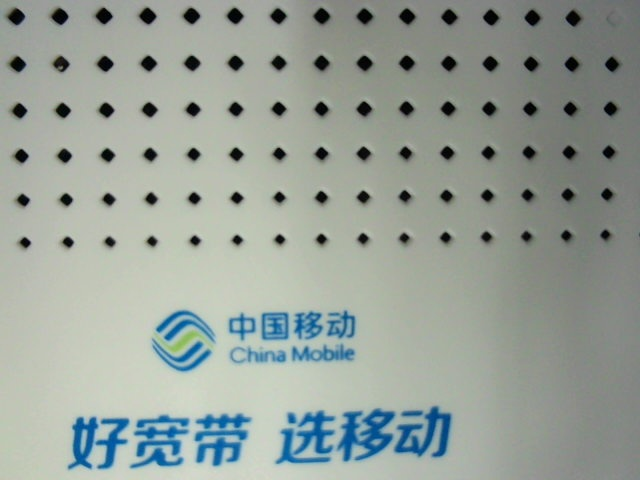AA_ChinaMoble: (51, 299, 471, 470)
